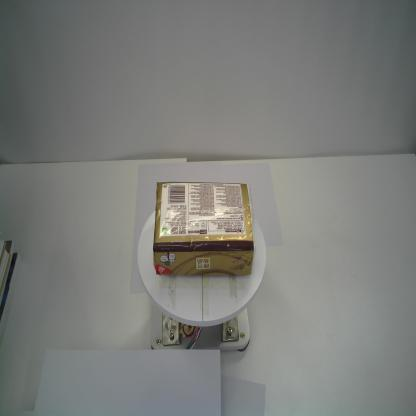Tissue: (152, 181, 255, 278)
